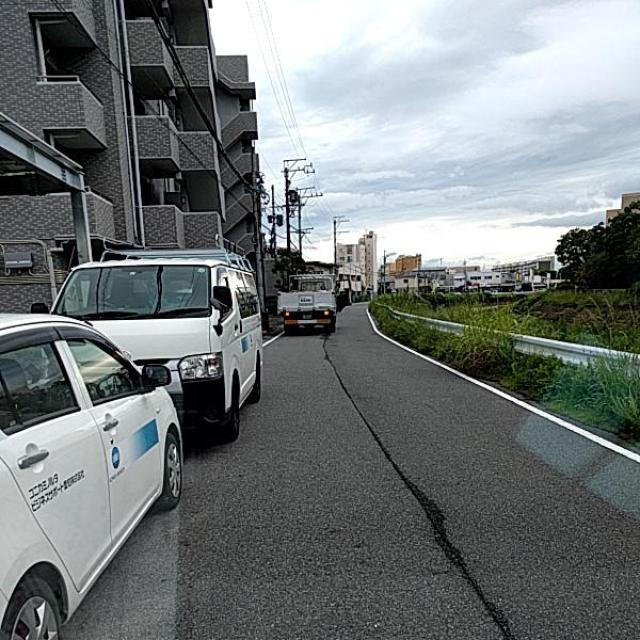Crack: (314, 332, 593, 640)
